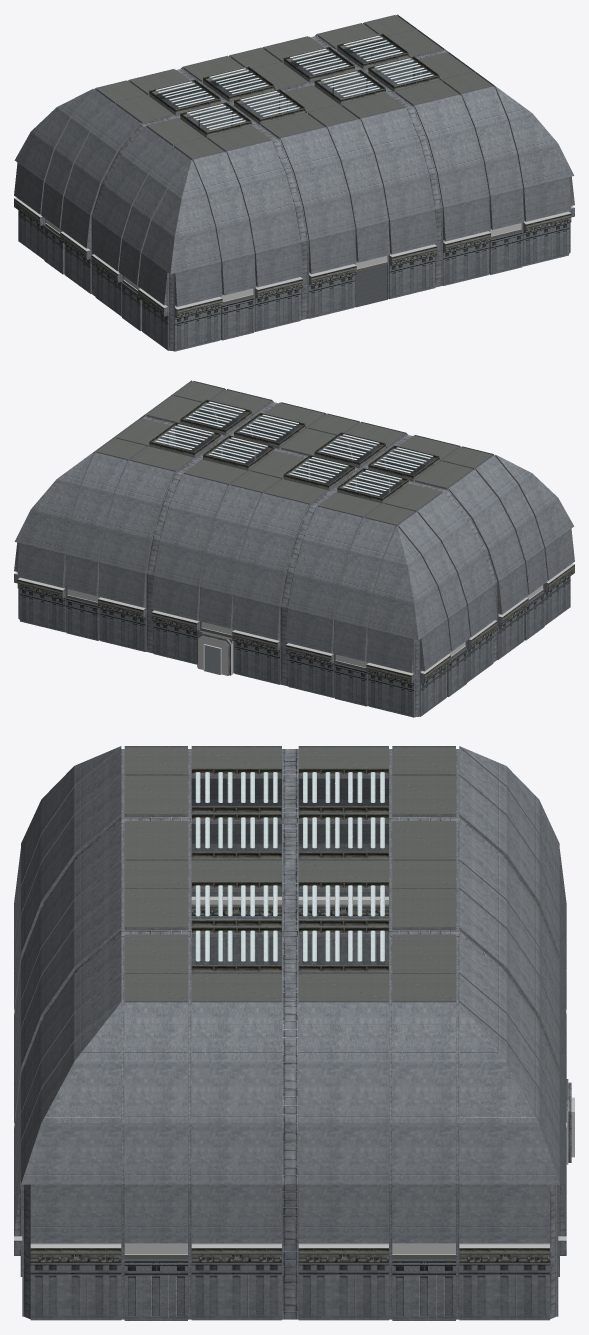
Rendered from poi_all_impl_bunker_warren_s01_r6_entryhall_mesh_r6.fbx.
The picture shows the model from 3 angles, top to bottom: view 1: azimuth 30°, elevation 25°; view 2: azimuth 150°, elevation 25°; view 3: azimuth 270°, elevation 25°; orthographic projection. The views are drawn at different scales.
Parts seen in each view (by area): view 1: mesh_node; view 2: mesh_node; view 3: mesh_node.
Boxes of the visible parts, x1=… form: mesh_node: x1=14, y1=14, x2=574, y2=351; mesh_node: x1=14, y1=380, x2=574, y2=717; mesh_node: x1=14, y1=746, x2=574, y2=1320.
Bounding box in the file's own units: 49 × 18.7 × 33.5.
